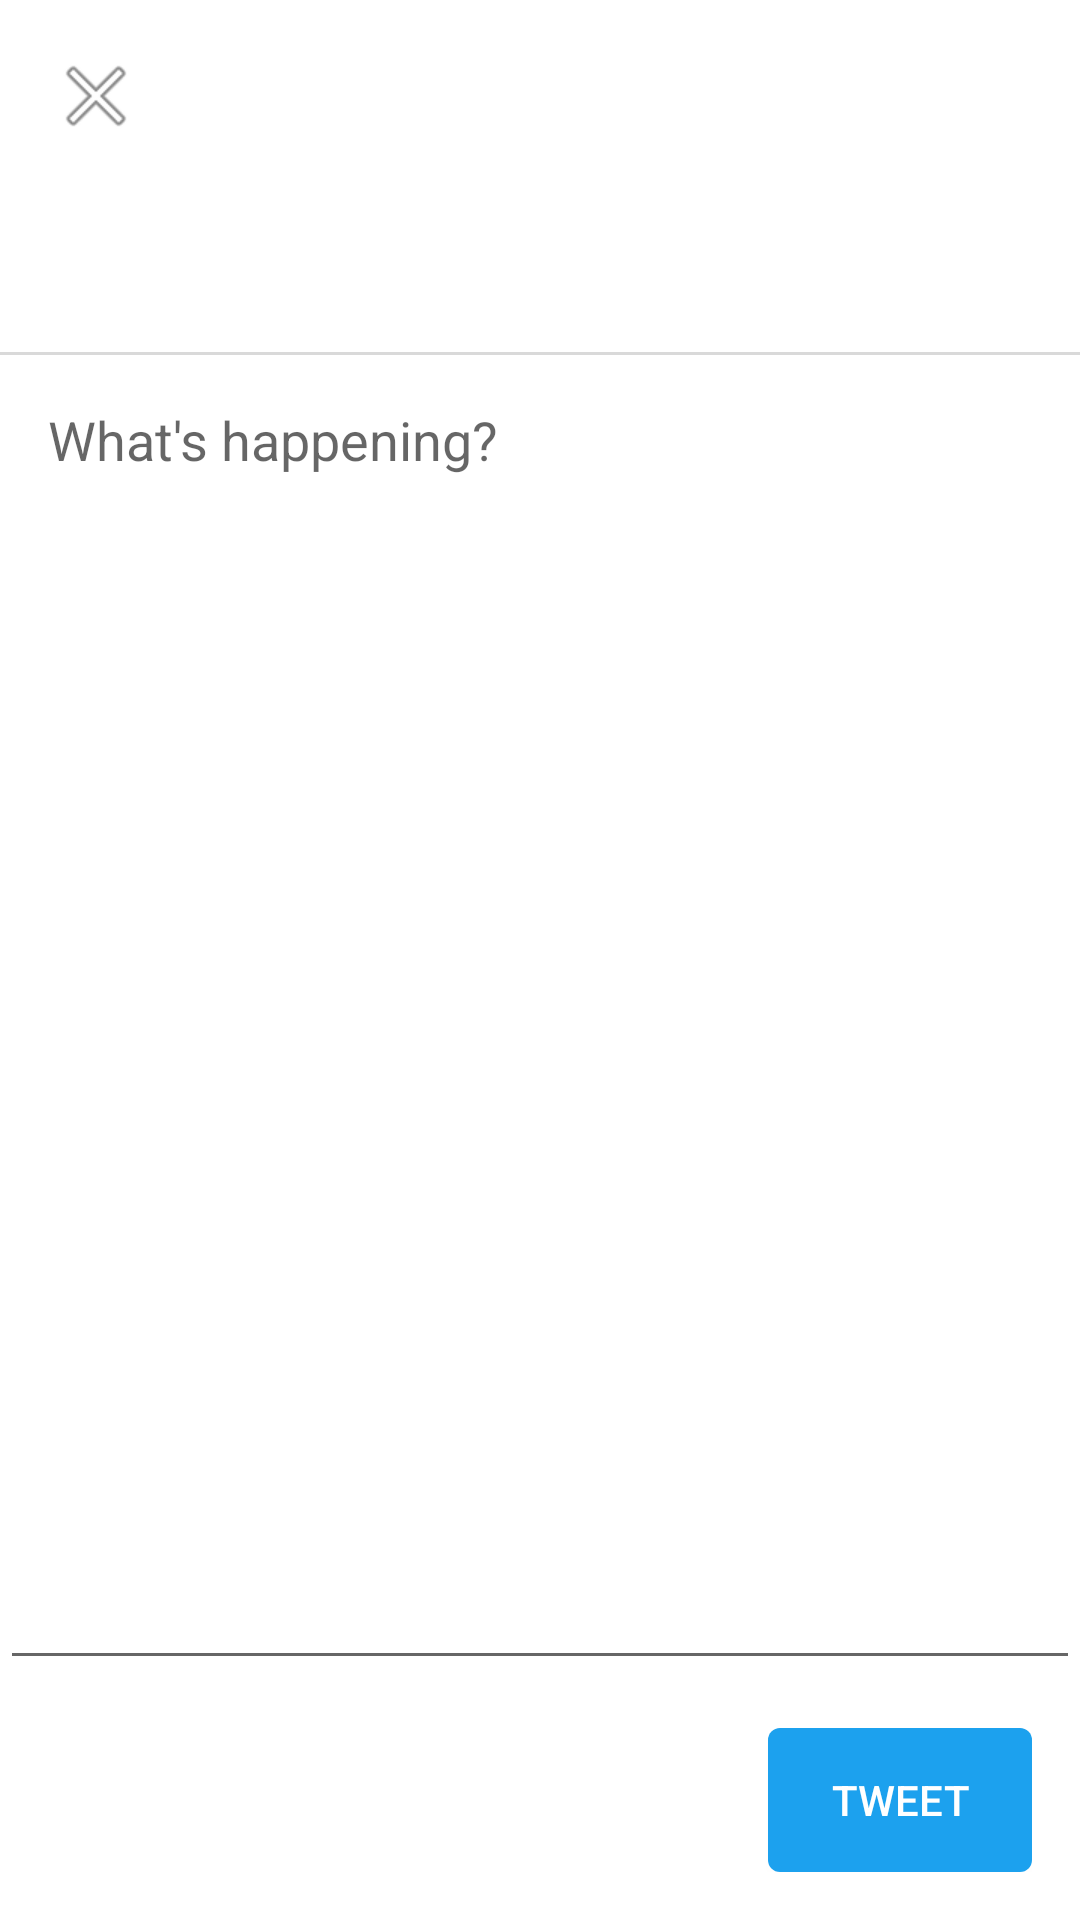

Named icons in this screenshot (1080×1920) and their bounding boxes, (left=x1, top=y1, right=x2, bottom=y2):
close clear cancel: (left=66, top=66, right=126, bottom=126)
